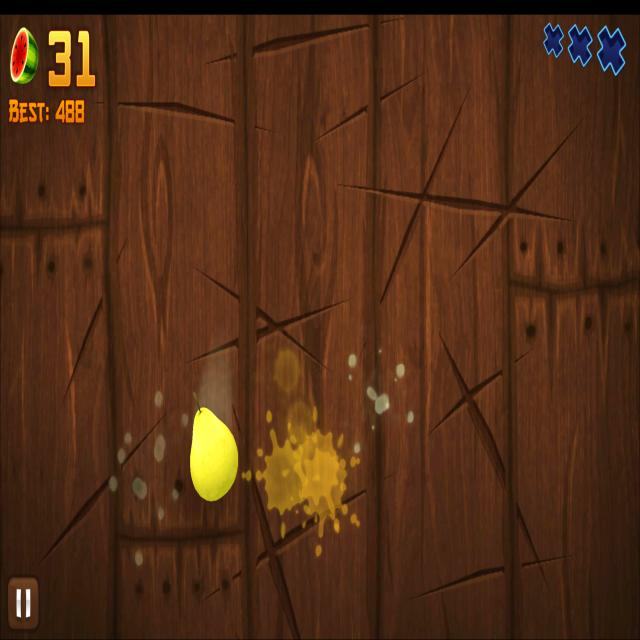fruit: (189, 406, 239, 503)
